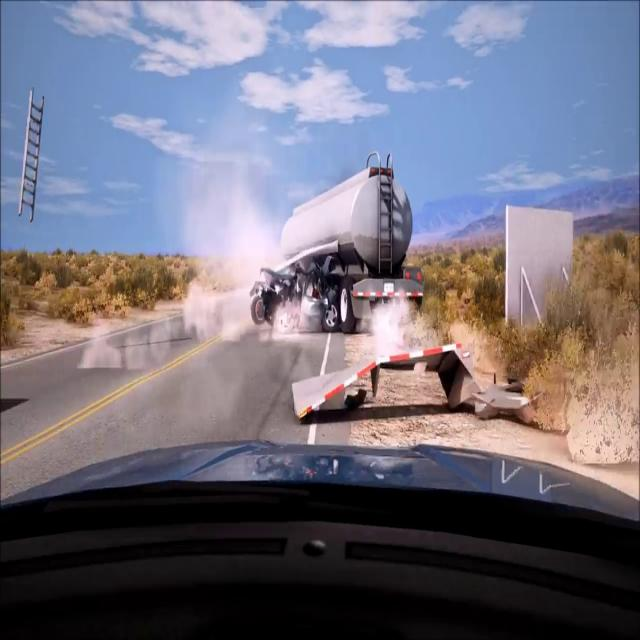accident: (242, 158, 431, 332)
